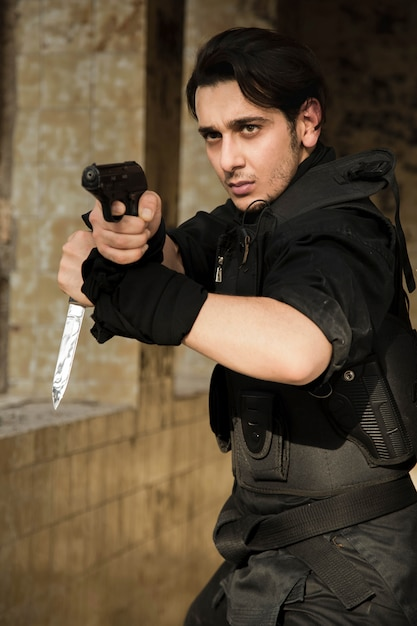gun: (79, 158, 149, 219)
knife: (50, 298, 85, 412)
